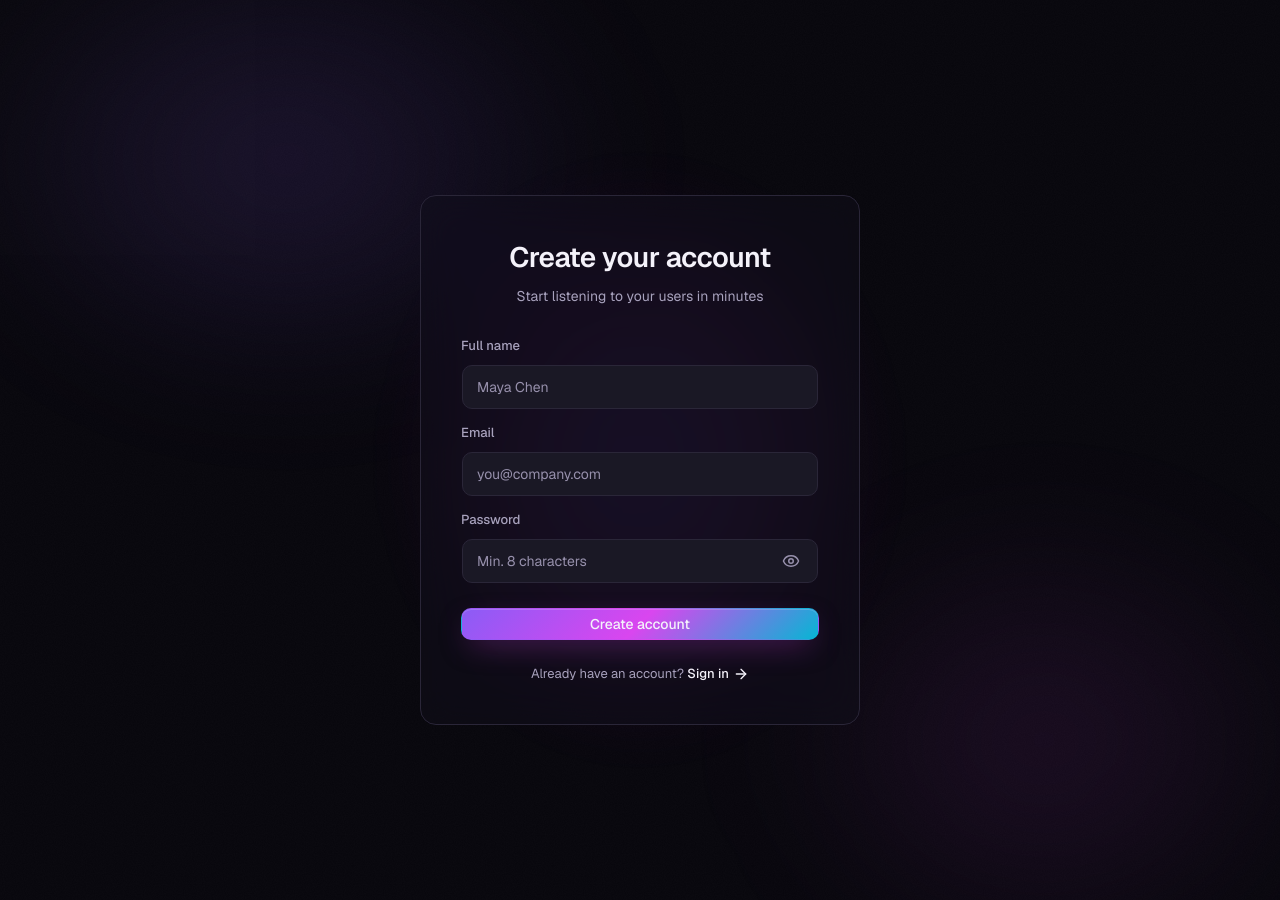
SignupPage — form validation › shows a validation error when email is empty on submit
Click the button "Create account" at (640, 624), box left=461, top=608, right=819, bottom=640
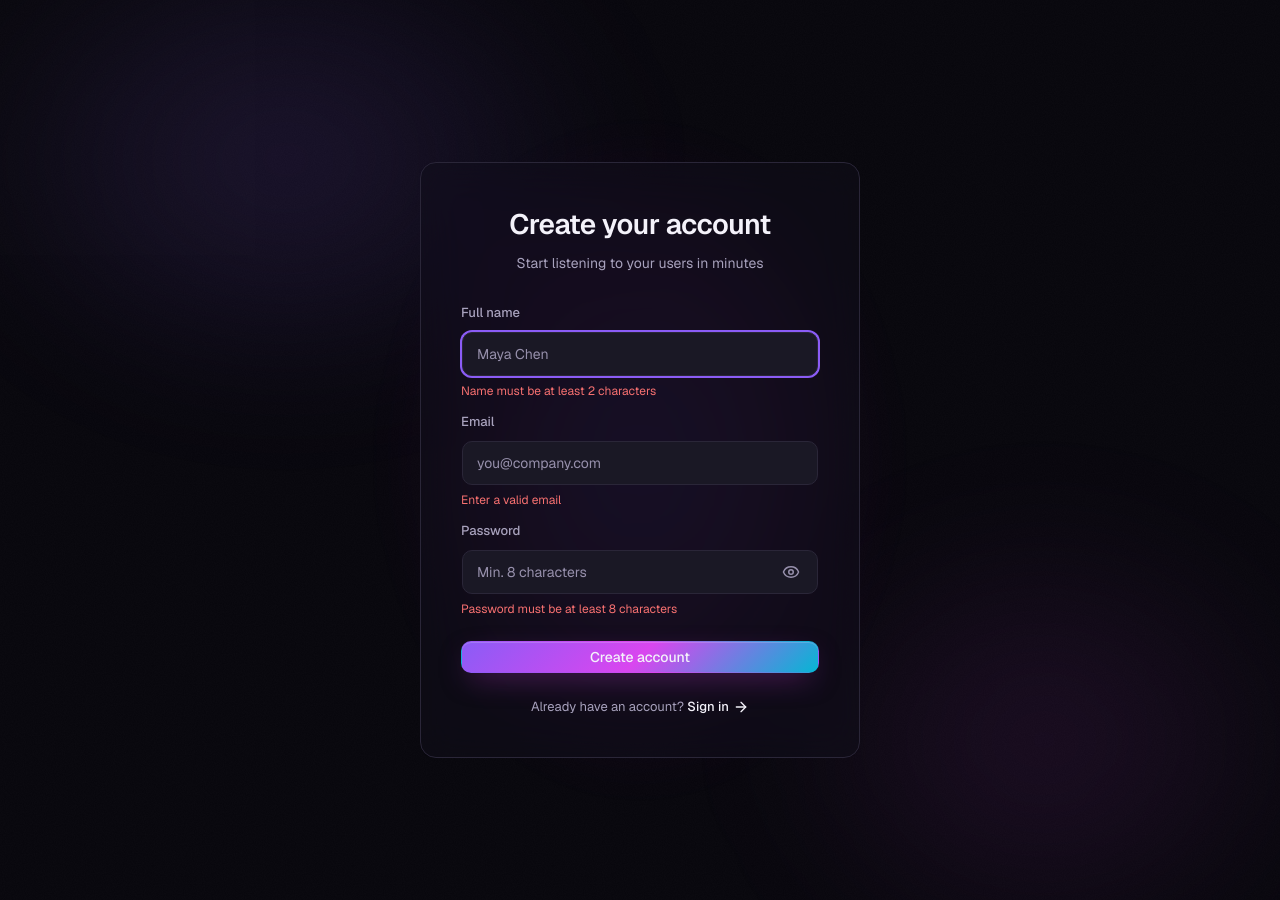
Expected: the text "Enter a valid email" is shown, left=461, top=492, right=561, bottom=508
